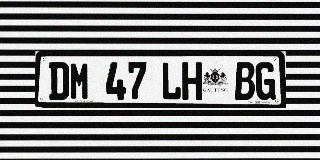4: (106, 62, 126, 100)
7: (127, 62, 147, 100)
B: (235, 62, 255, 100)
D: (49, 62, 69, 100)
G: (255, 62, 276, 100)
H: (182, 62, 202, 100)
L: (161, 62, 181, 100)
M: (70, 62, 90, 100)
